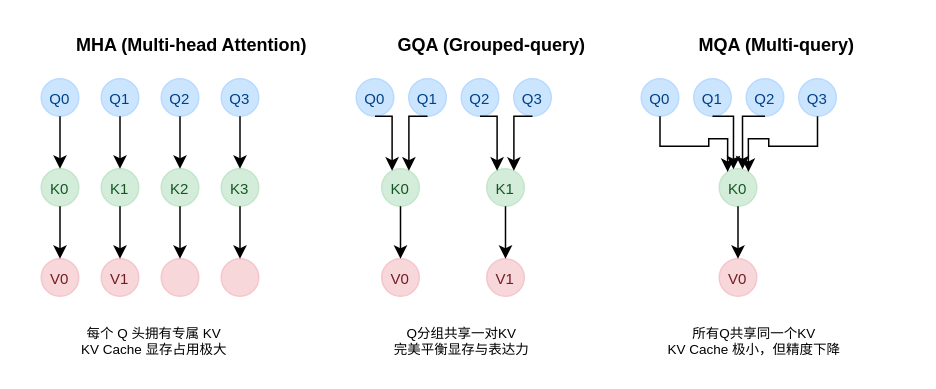
This 936x389 diagram has some shape labels left out. The centre of each missing label's shape, as x and y in pixels:
"V2" belongs at [179,276].
"V3" belongs at [239,276].
